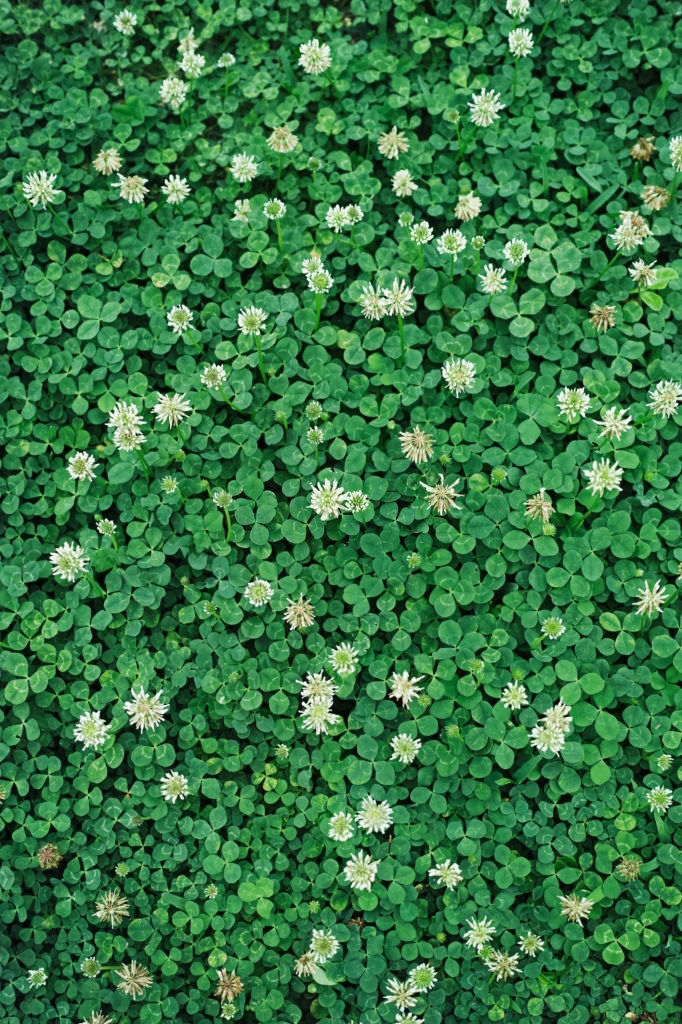clover: (6, 5, 680, 1024)
